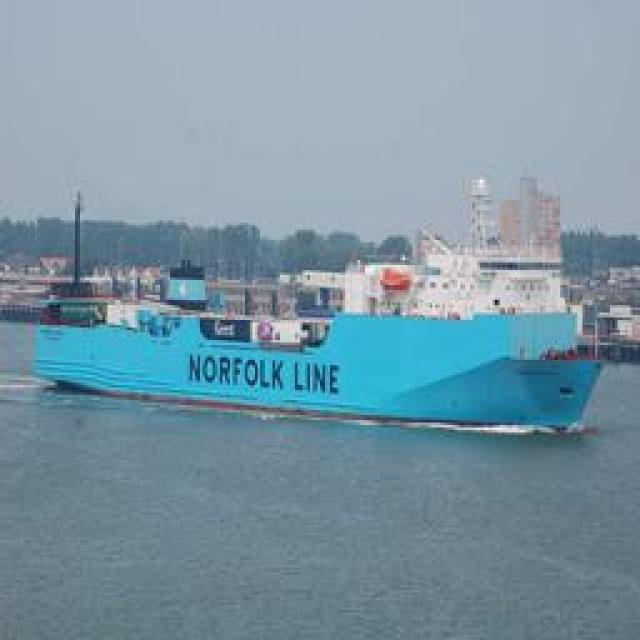CIV_Ship: (32, 245, 602, 430)
